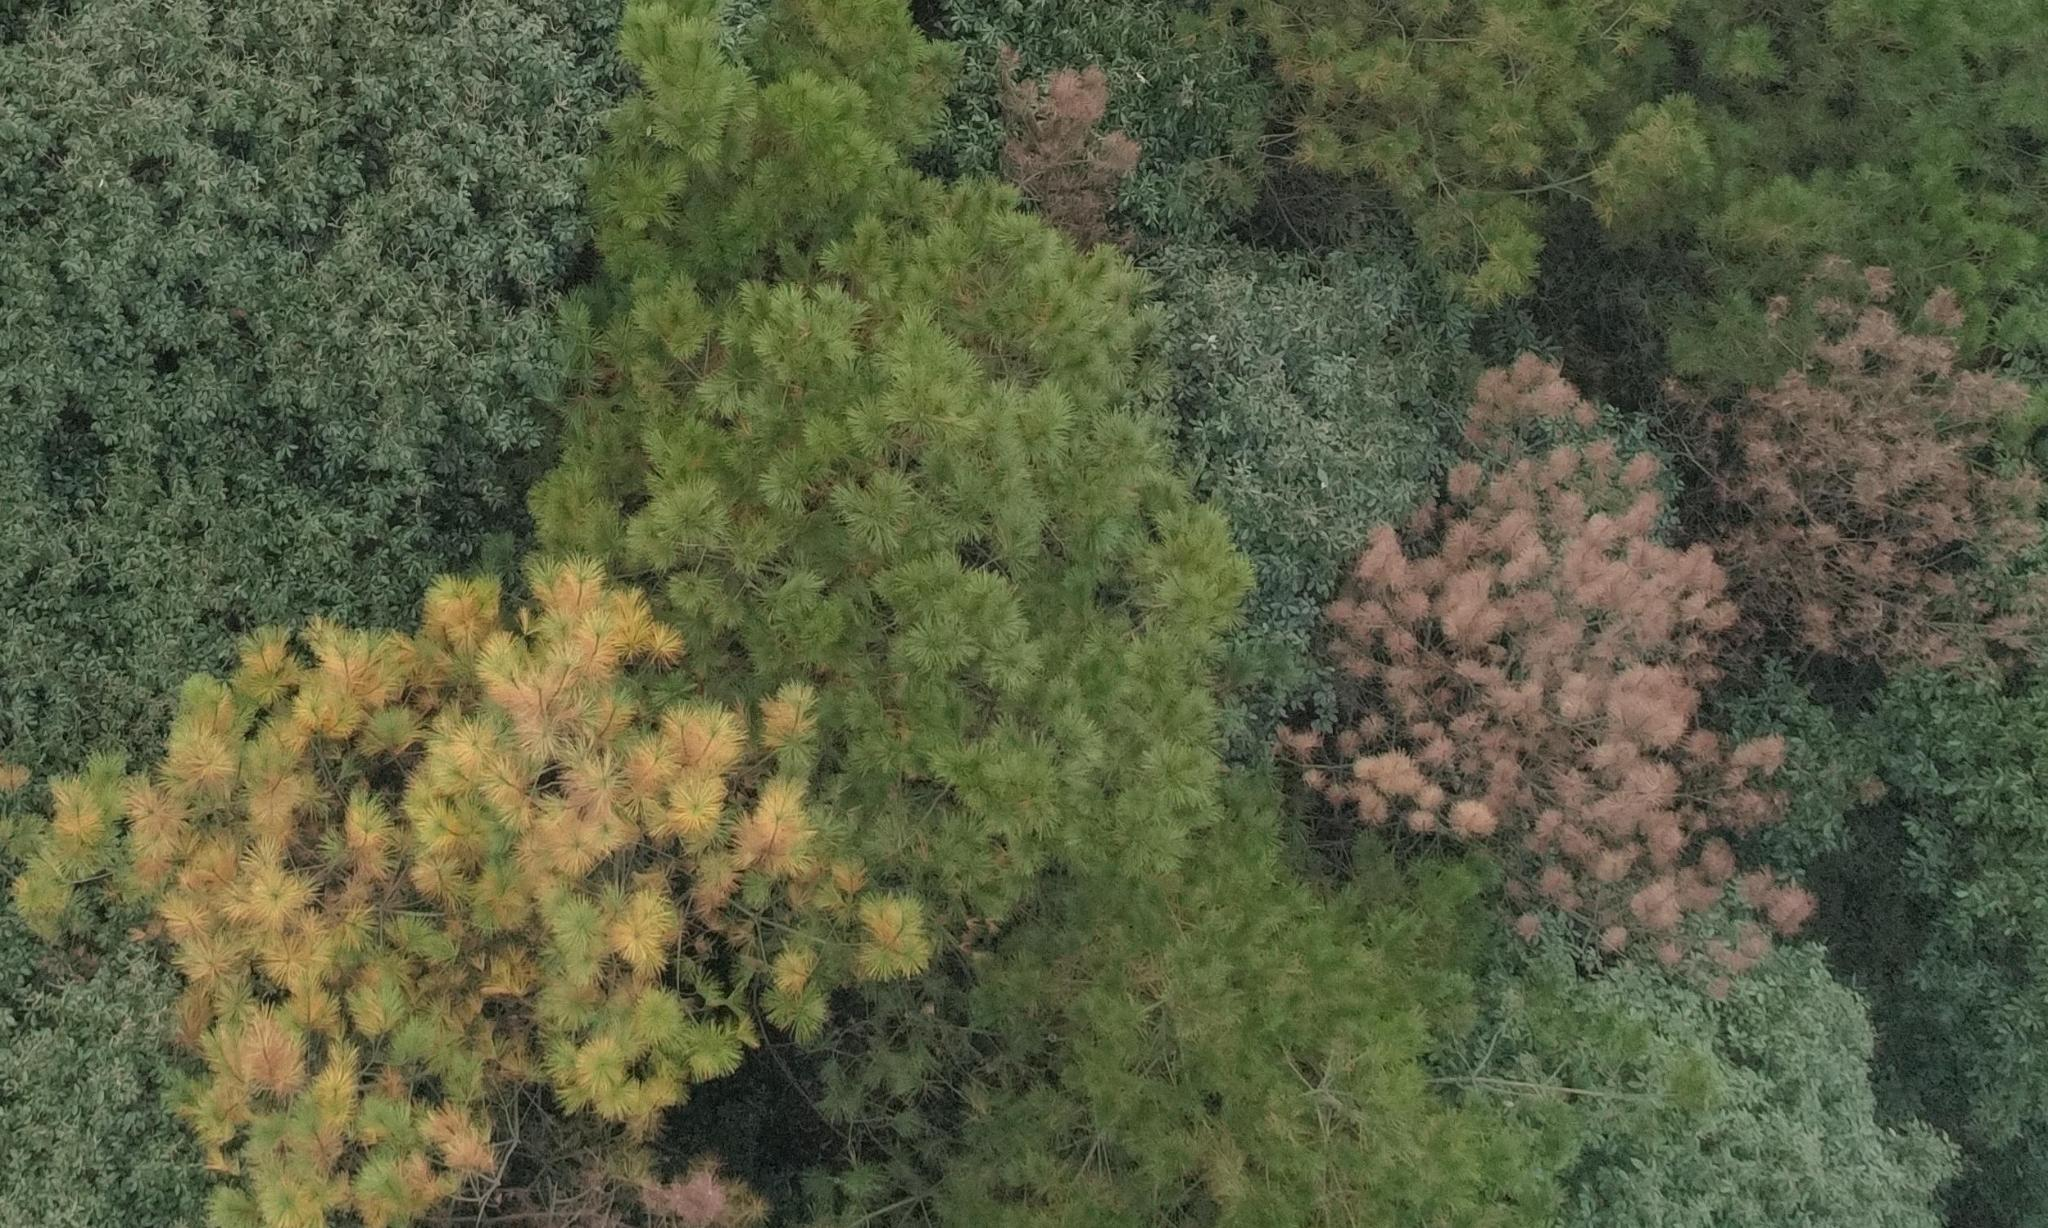heavy: (1291, 355, 1709, 969), (1744, 279, 2026, 675), (995, 60, 1149, 240)
light: (91, 567, 906, 1206)
